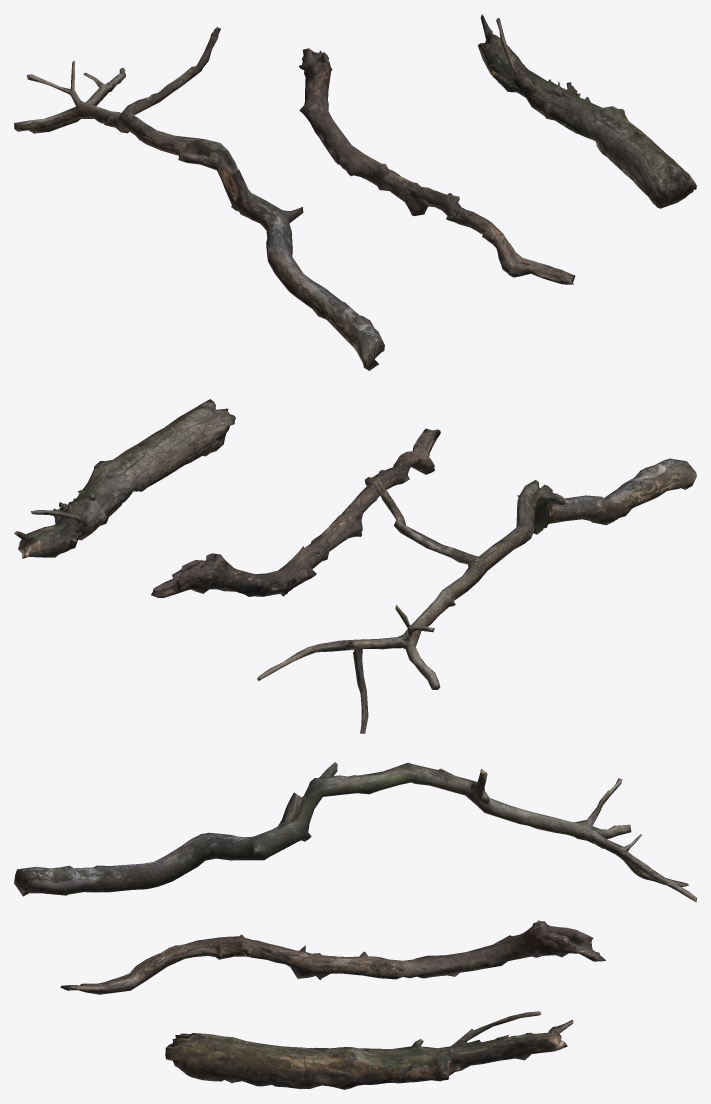
The model's file is dry_branches_medium_01.glb.
3 views of the same model, one above another, from view 1: azimuth 30°, elevation 25°; view 2: azimuth 150°, elevation 25°; view 3: azimuth 270°, elevation 25° (orthographic). The views are drawn at different scales.
Visible parts, largest first — view 1: dry_branches_medium_01_a, dry_branches_medium_01_c, dry_branches_medium_01_b; view 2: dry_branches_medium_01_a, dry_branches_medium_01_c, dry_branches_medium_01_b; view 3: dry_branches_medium_01_a, dry_branches_medium_01_c, dry_branches_medium_01_b.
Boxes of the visible parts, x1,y1,x2,y2 form: dry_branches_medium_01_a: (14,27,384,370); dry_branches_medium_01_c: (477,14,696,208); dry_branches_medium_01_b: (299,48,575,284); dry_branches_medium_01_a: (257,458,696,733); dry_branches_medium_01_c: (14,399,235,558); dry_branches_medium_01_b: (151,428,440,597); dry_branches_medium_01_a: (14,762,696,902); dry_branches_medium_01_c: (165,1011,573,1089); dry_branches_medium_01_b: (60,920,605,994).
Bounding box in the file's own units: 1.06 × 0.3411 × 1.3.
Materials: 1 (1 with a texture image).
